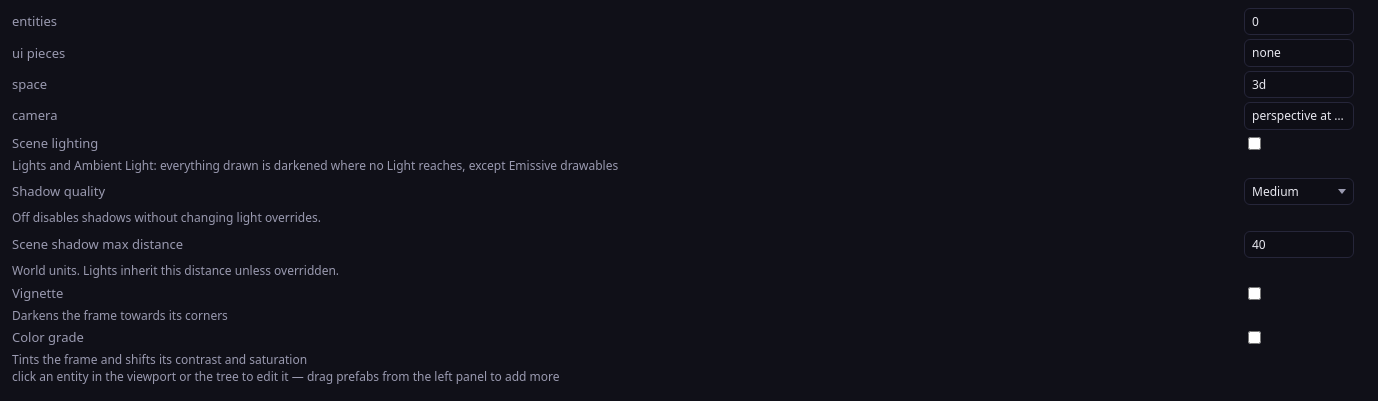
it: CA-11: bounds an edited distance of 0 to 0.01 without materializing quality
The image size is (1378, 401).
Replace the text in the number field labelled "Scene shadow max distance" with "0" at (1299, 244), box left=1244, top=231, right=1354, bottom=258
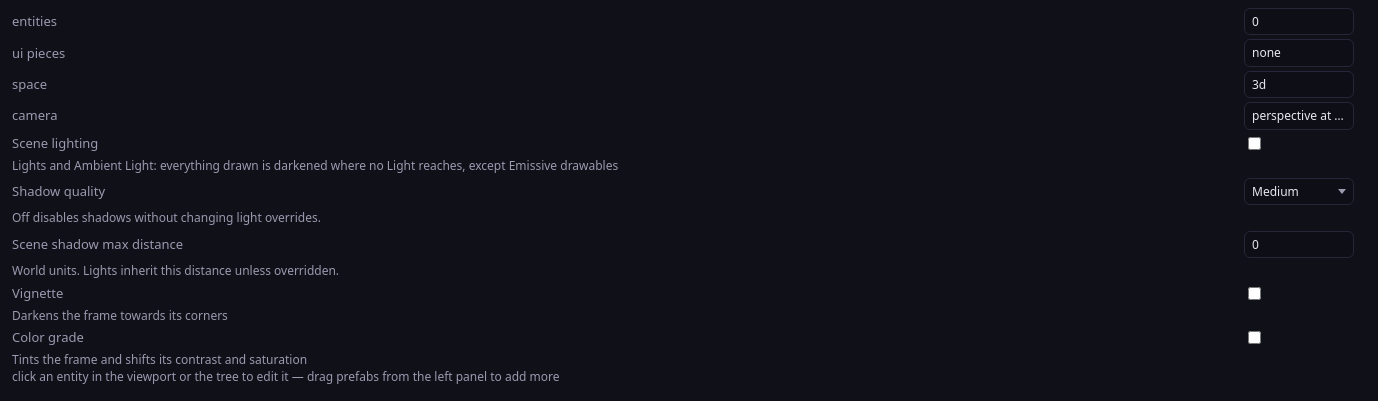
Leave the number field labelled "Scene shadow max distance", box left=1244, top=231, right=1354, bottom=258
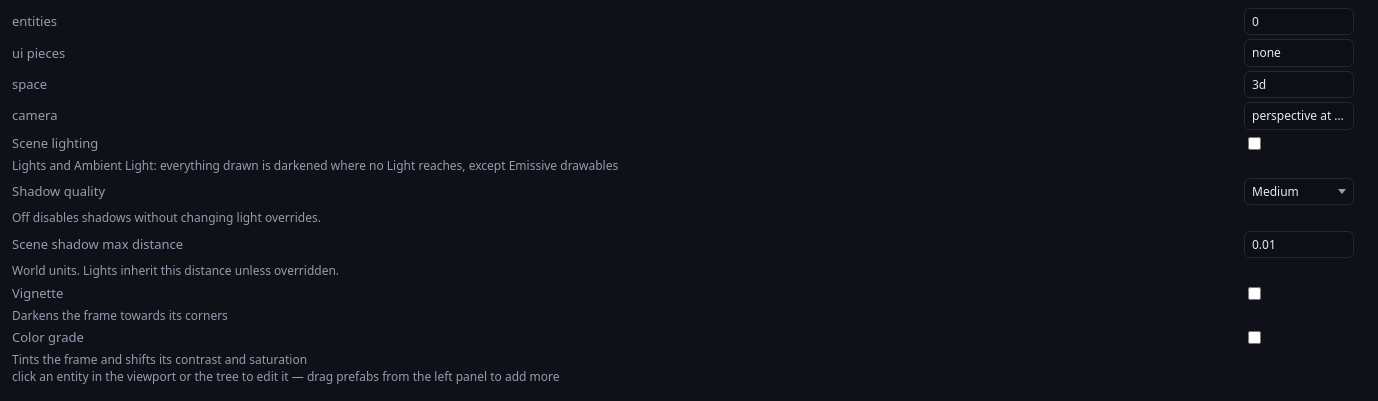
Result: the number field labelled "Scene shadow max distance" holds "0.01" at left=1244, top=231, right=1354, bottom=258
